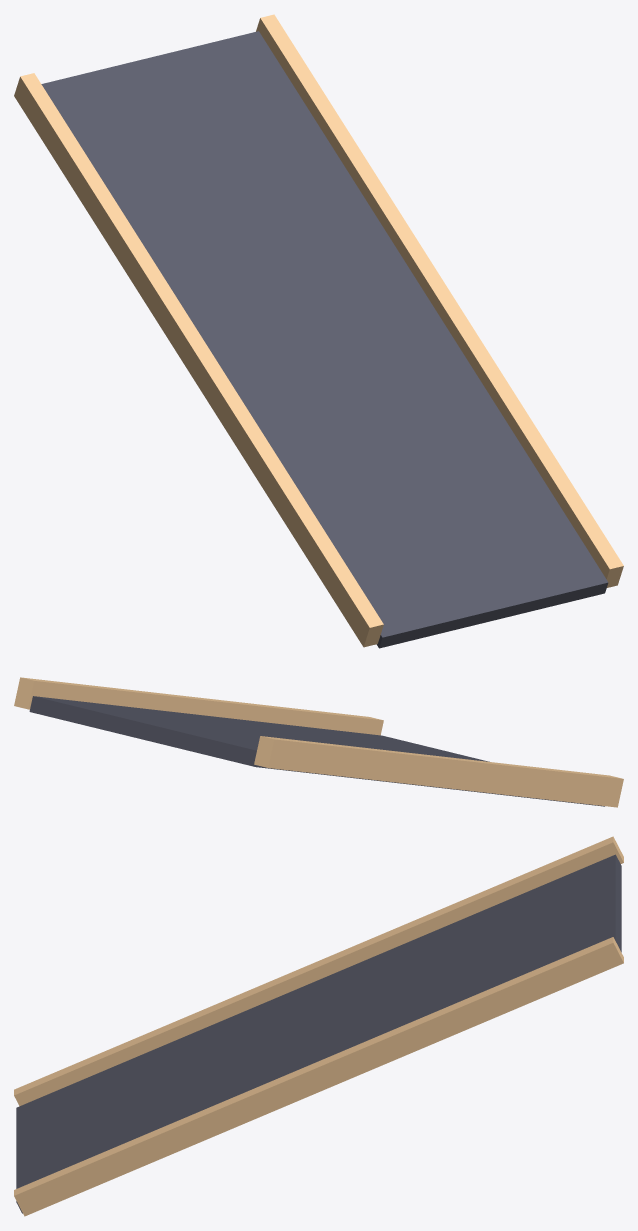
The model's file is ramp2.glb.
The picture shows the model from 3 angles, top to bottom: view 1: azimuth 30°, elevation 25°; view 2: azimuth 150°, elevation 25°; view 3: azimuth 270°, elevation 25°; orthographic projection. The views are drawn at different scales.
Parts seen in each view (by area): view 1: ramp, ramp_curb_l, ramp_curb_r; view 2: ramp_curb_l, ramp, ramp_curb_r; view 3: ramp, ramp_curb_r, ramp_curb_l.
Part boxes in pixels (x1,y1,x2,y2): ramp: (41, 31, 608, 648); ramp_curb_l: (14, 73, 383, 647); ramp_curb_r: (256, 14, 623, 587); ramp_curb_l: (254, 736, 623, 807); ramp: (29, 696, 604, 806); ramp_curb_r: (14, 677, 383, 735); ramp: (16, 854, 621, 1213); ramp_curb_r: (14, 937, 623, 1216); ramp_curb_l: (14, 836, 623, 1106).
Bounding box in the file's own units: 1.8 × 2.19 × 4.37.
